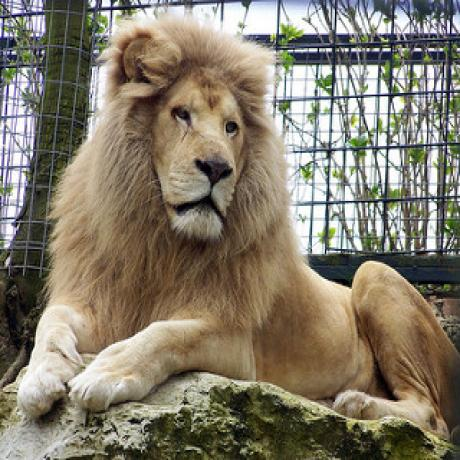Lion: (18, 13, 460, 441)
